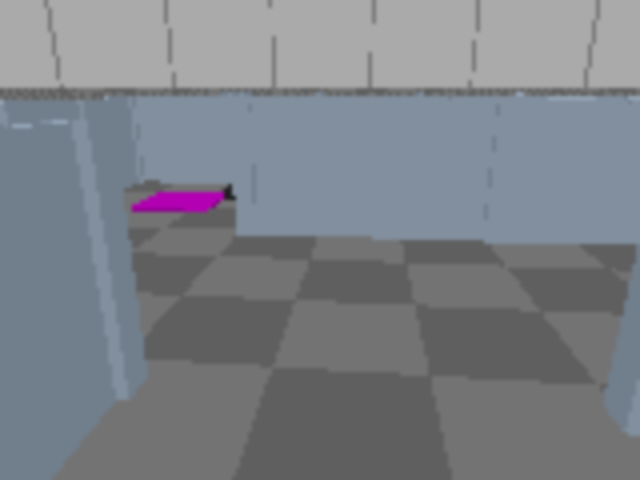goal_zone: (128, 192, 230, 212)
